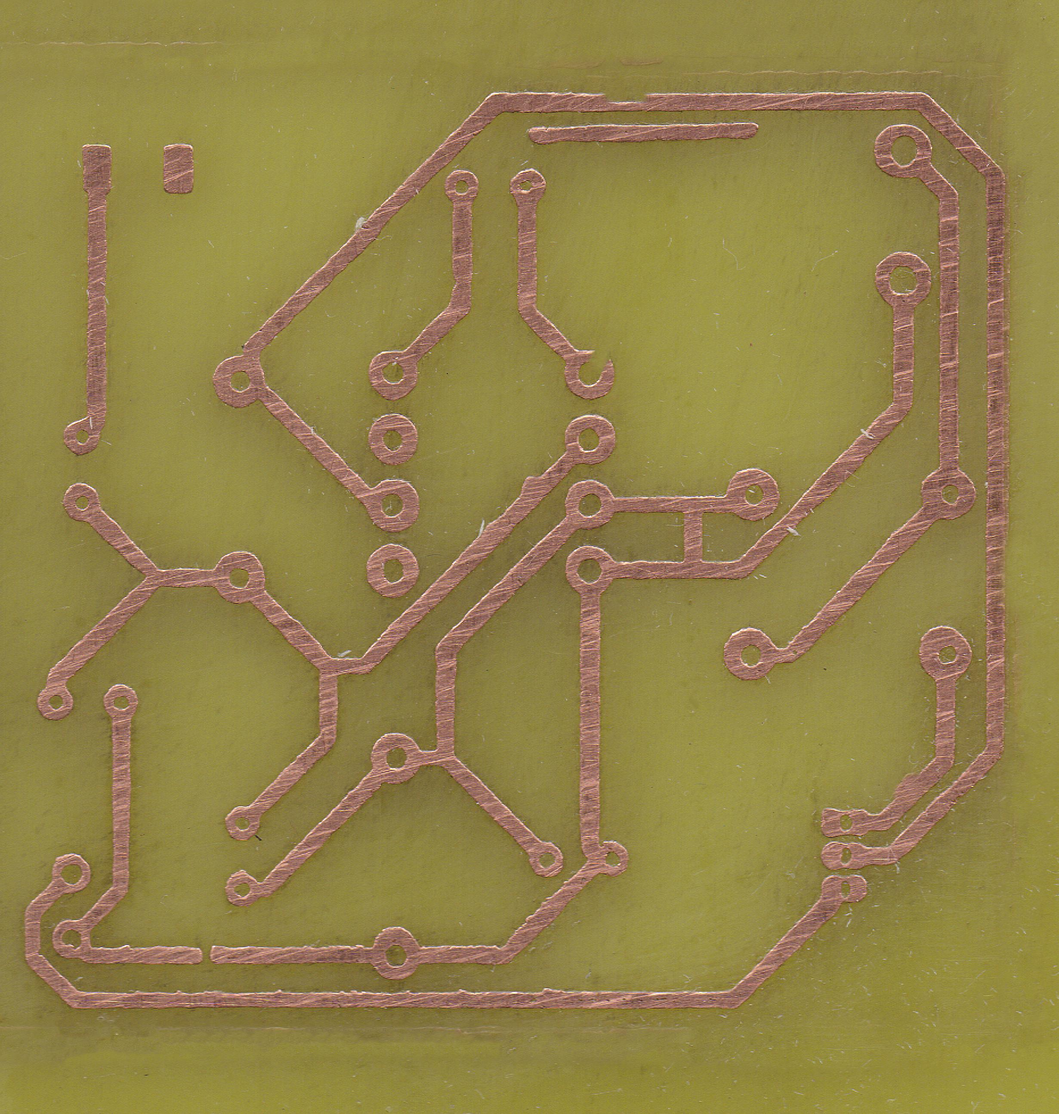missing_hole: (563, 350, 616, 400)
mouse_bite: (600, 92, 651, 112)
open_circuit: (190, 946, 223, 966)
short: (673, 496, 712, 579)
spur: (892, 771, 920, 801), (519, 474, 543, 502)
spurious_copper: (524, 121, 760, 146)
